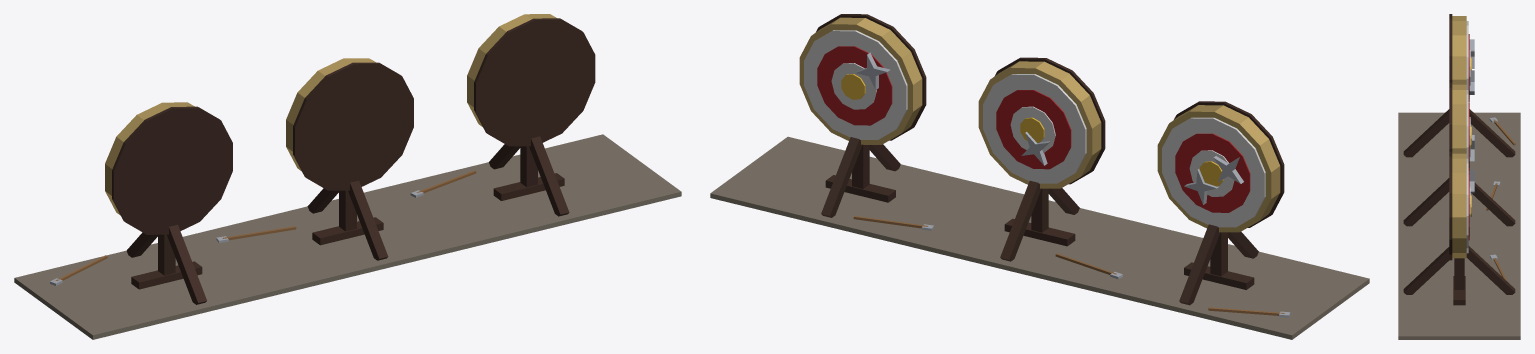
File: Decor_NinjaDojo_Targets.fbx
3 views of the same model, side by side, from view 1: azimuth 30°, elevation 25°; view 2: azimuth 150°, elevation 25°; view 3: azimuth 270°, elevation 25° (orthographic). The views are drawn at different scales.
Parts seen in each view (by area): view 1: Targets_Body; view 2: Targets_Body; view 3: Targets_Body.
Boxes of the visible parts, x1,y1,x2,y2 form: Targets_Body: (14, 14, 681, 339); Targets_Body: (710, 14, 1369, 339); Targets_Body: (1398, 14, 1520, 339).
Bounding box in the file's own units: 26 × 7.6 × 6.
